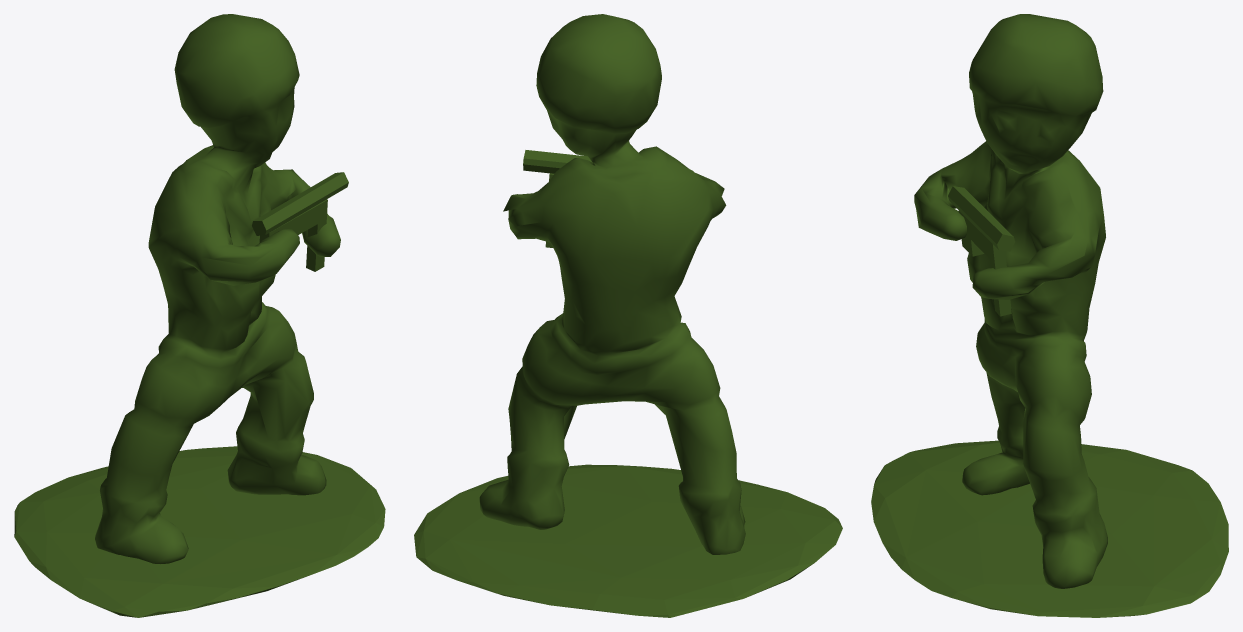
Rendered from AssaultTower.fbx.
3 views of the same model, side by side, from view 1: azimuth 30°, elevation 25°; view 2: azimuth 150°, elevation 25°; view 3: azimuth 270°, elevation 25° (orthographic). The views are drawn at different scales.
Visible parts, largest first — view 1: SoldierTowerAssault; view 2: SoldierTowerAssault; view 3: SoldierTowerAssault.
Part boxes in pixels (bbox=[...]): SoldierTowerAssault: bbox=[14, 14, 385, 617]; SoldierTowerAssault: bbox=[414, 14, 842, 617]; SoldierTowerAssault: bbox=[871, 14, 1228, 617].
Size of the model in its own units: 237 by 337 by 205.
